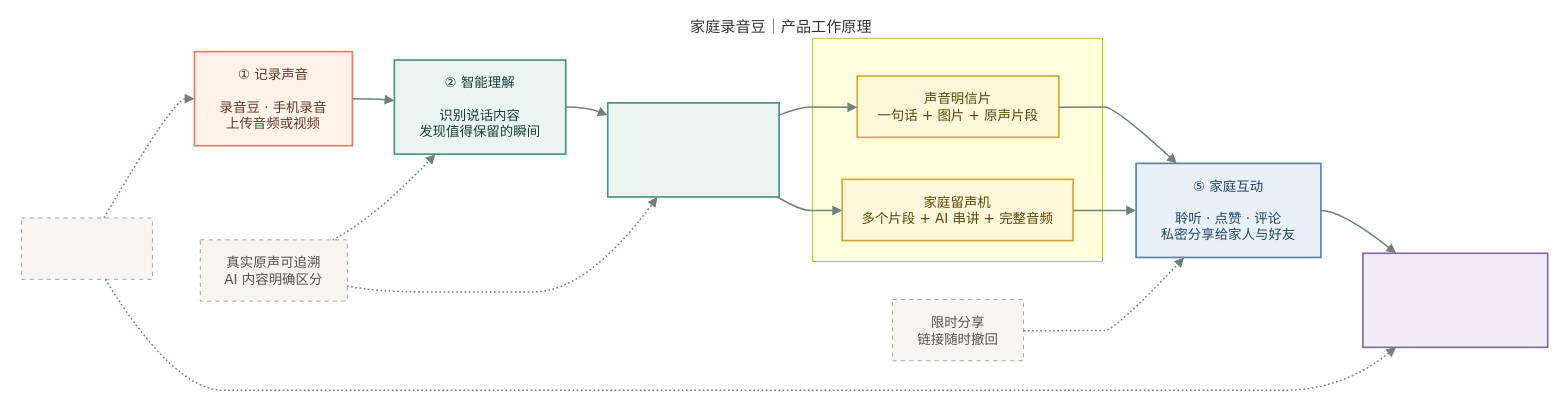
Image size: 1562x405. Some labels were removed from this diagram. Here are the shapes that lost their labels. From the top down, the box of each, then its label:
(606, 102, 780, 197): ③ 家人确认 修改文字与人物 选择精彩片段和封面
(812, 37, 1102, 262): ④ 生成作品
(21, 217, 152, 279): 默认私密 只有家人可见
(1362, 252, 1548, 348): ⑥ 长期留存 按时间与人物整理 随时回顾、恢复或删除
